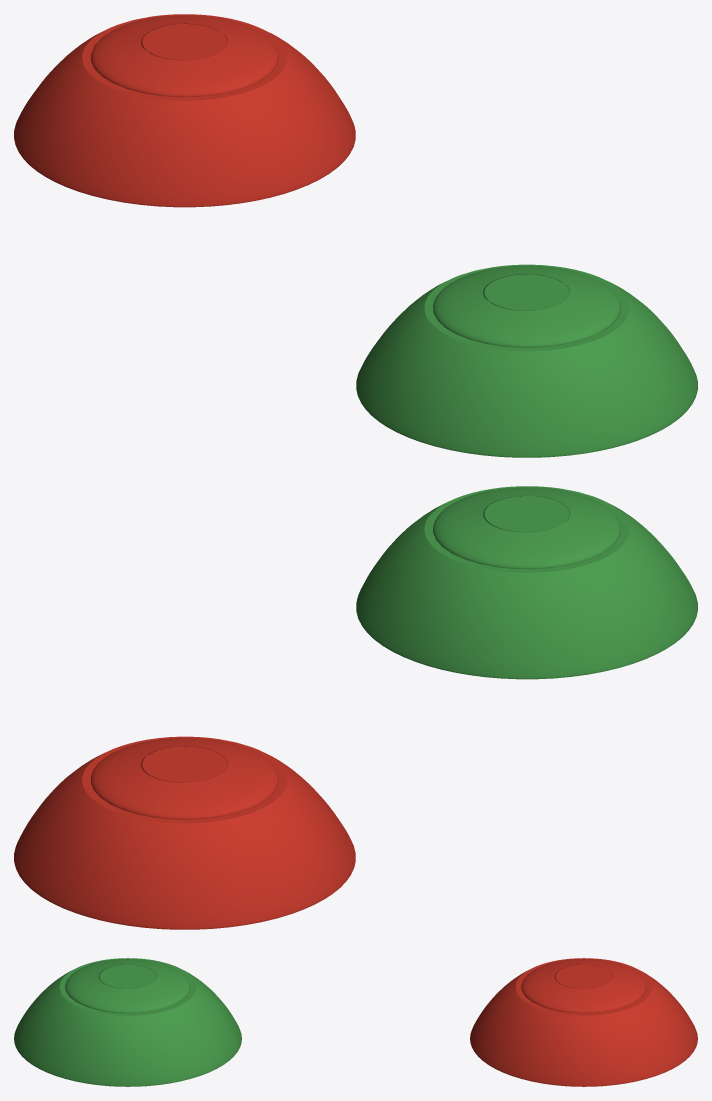
The model's file is switch lamps.fbx.
3 views of the same model, one above another, from view 1: azimuth 30°, elevation 25°; view 2: azimuth 150°, elevation 25°; view 3: azimuth 270°, elevation 25° (orthographic). The views are drawn at different scales.
Visible parts, largest first — view 1: Green, Red; view 2: Red, Green; view 3: Green, Red.
Part boxes in pixels (<box>): Green: <box>356,264,697,457</box>; Red: <box>14,14,355,207</box>; Red: <box>14,736,355,929</box>; Green: <box>356,486,697,679</box>; Green: <box>14,958,241,1086</box>; Red: <box>470,958,697,1086</box>.
Bounding box in the file's own units: 20 × 6 × 60.
